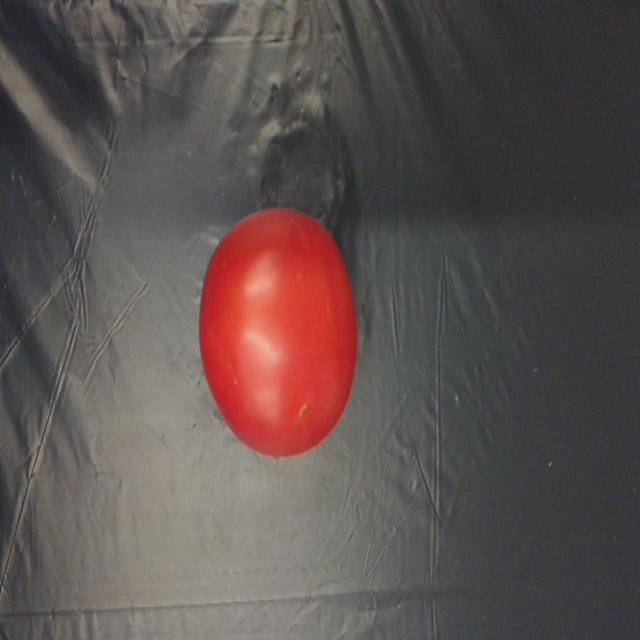kirmizi: (194, 198, 366, 461)
